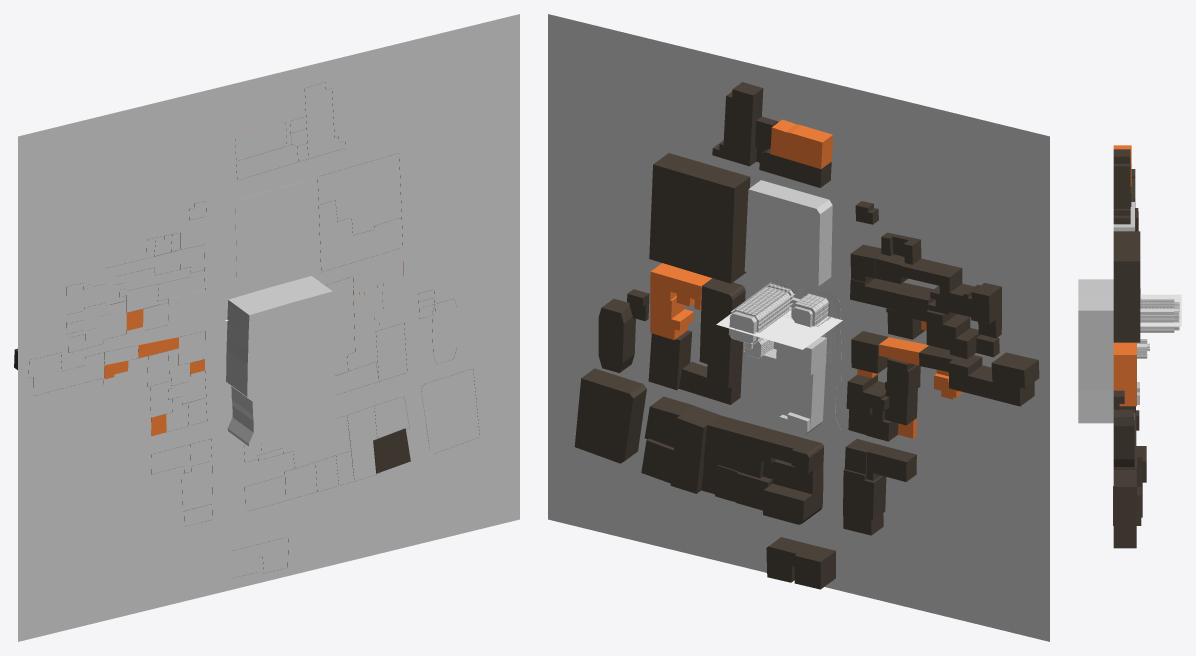
File: TheEconomistBuilding_Site-unity.fbx
3 renders of one model, left to right at view 1: azimuth 30°, elevation 25°; view 2: azimuth 150°, elevation 25°; view 3: azimuth 270°, elevation 25°, orthographic. The views are drawn at different scales.
Parts seen in each view (by area): view 1: SiteSurroundings, map.osm_buildings; view 2: SiteSurroundings, map.osm_buildings_39, map.osm_buildings_7, map.osm_buildings_22, map.osm_buildings_4, map.osm_buildings_15, map.osm_buildings_25, map.osm_buildings_19, map.osm_buildings_26, map.osm_buildings_16, Glass, map.osm_buildings_6 (+22 smaller); view 3: SiteSurroundings, map.osm_buildings_39, map.osm_buildings_4, map.osm_buildings_26, map.osm_buildings_16, map.osm_buildings_8, Glass, Mullion, Columns, sshot-4-1.jpg, Balconies, map.osm_buildings_7 (+4 smaller).
Boxes of the visible parts, left/top/right/bottom form: SiteSurroundings: left=18, top=14, right=519, bottom=641; map.osm_buildings: left=373, top=428, right=410, bottom=473; SiteSurroundings: left=548, top=14, right=1049, bottom=641; map.osm_buildings_39: left=649, top=153, right=750, bottom=283; map.osm_buildings_7: left=701, top=415, right=824, bottom=524; map.osm_buildings_22: left=850, top=244, right=1001, bottom=338; map.osm_buildings_4: left=574, top=368, right=646, bottom=463; map.osm_buildings_15: left=699, top=278, right=745, bottom=388; map.osm_buildings_25: left=948, top=352, right=1039, bottom=406; map.osm_buildings_19: left=846, top=374, right=917, bottom=441; map.osm_buildings_26: left=650, top=263, right=711, bottom=339; map.osm_buildings_16: left=712, top=82, right=763, bottom=166; Glass: left=729, top=284, right=828, bottom=358; map.osm_buildings_6: left=670, top=405, right=720, bottom=493; SiteSurroundings: left=1078, top=202, right=1139, bottom=423; map.osm_buildings_39: left=1113, top=231, right=1140, bottom=342; map.osm_buildings_4: left=1113, top=470, right=1136, bottom=548; map.osm_buildings_26: left=1113, top=342, right=1136, bottom=406; map.osm_buildings_16: left=1113, top=149, right=1130, bottom=224; map.osm_buildings_8: left=1113, top=409, right=1134, bottom=467; Glass: left=1137, top=292, right=1178, bottom=358; Mullion: left=1137, top=288, right=1179, bottom=358; Columns: left=1140, top=300, right=1174, bottom=332; sshot-4-1.jpg: left=1140, top=294, right=1181, bottom=326; Balconies: left=1137, top=302, right=1173, bottom=358; map.osm_buildings_7: left=1134, top=410, right=1146, bottom=482.
Bounding box in the file's own units: 370043 × 78623 × 356158.
Materials: 5 (2 with a texture image).
